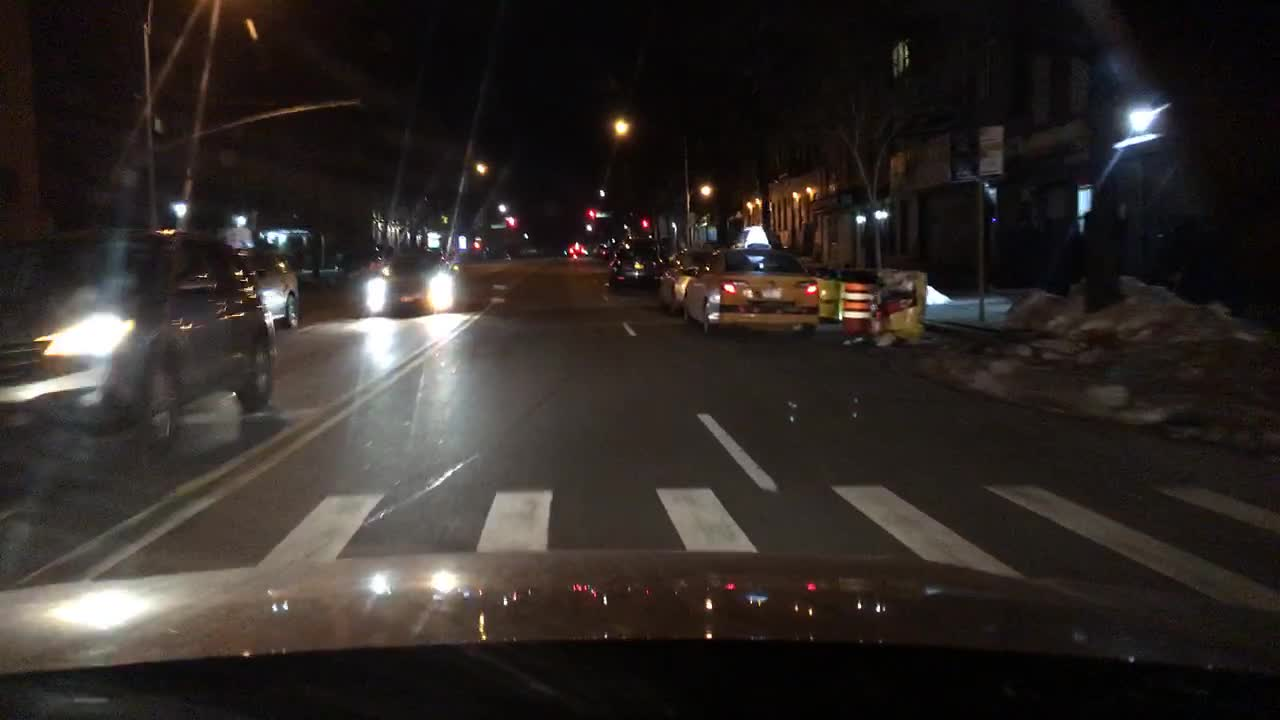car: (0, 228, 275, 452), (677, 222, 819, 331), (350, 250, 461, 314), (232, 244, 299, 329), (661, 242, 716, 313), (606, 248, 661, 284), (622, 237, 661, 247), (569, 242, 586, 261), (598, 242, 611, 257)
person: (1057, 212, 1081, 290)
traffic light: (587, 207, 595, 219), (641, 219, 647, 230), (507, 217, 512, 227)
traffic sign: (491, 222, 506, 229), (597, 212, 613, 218)
